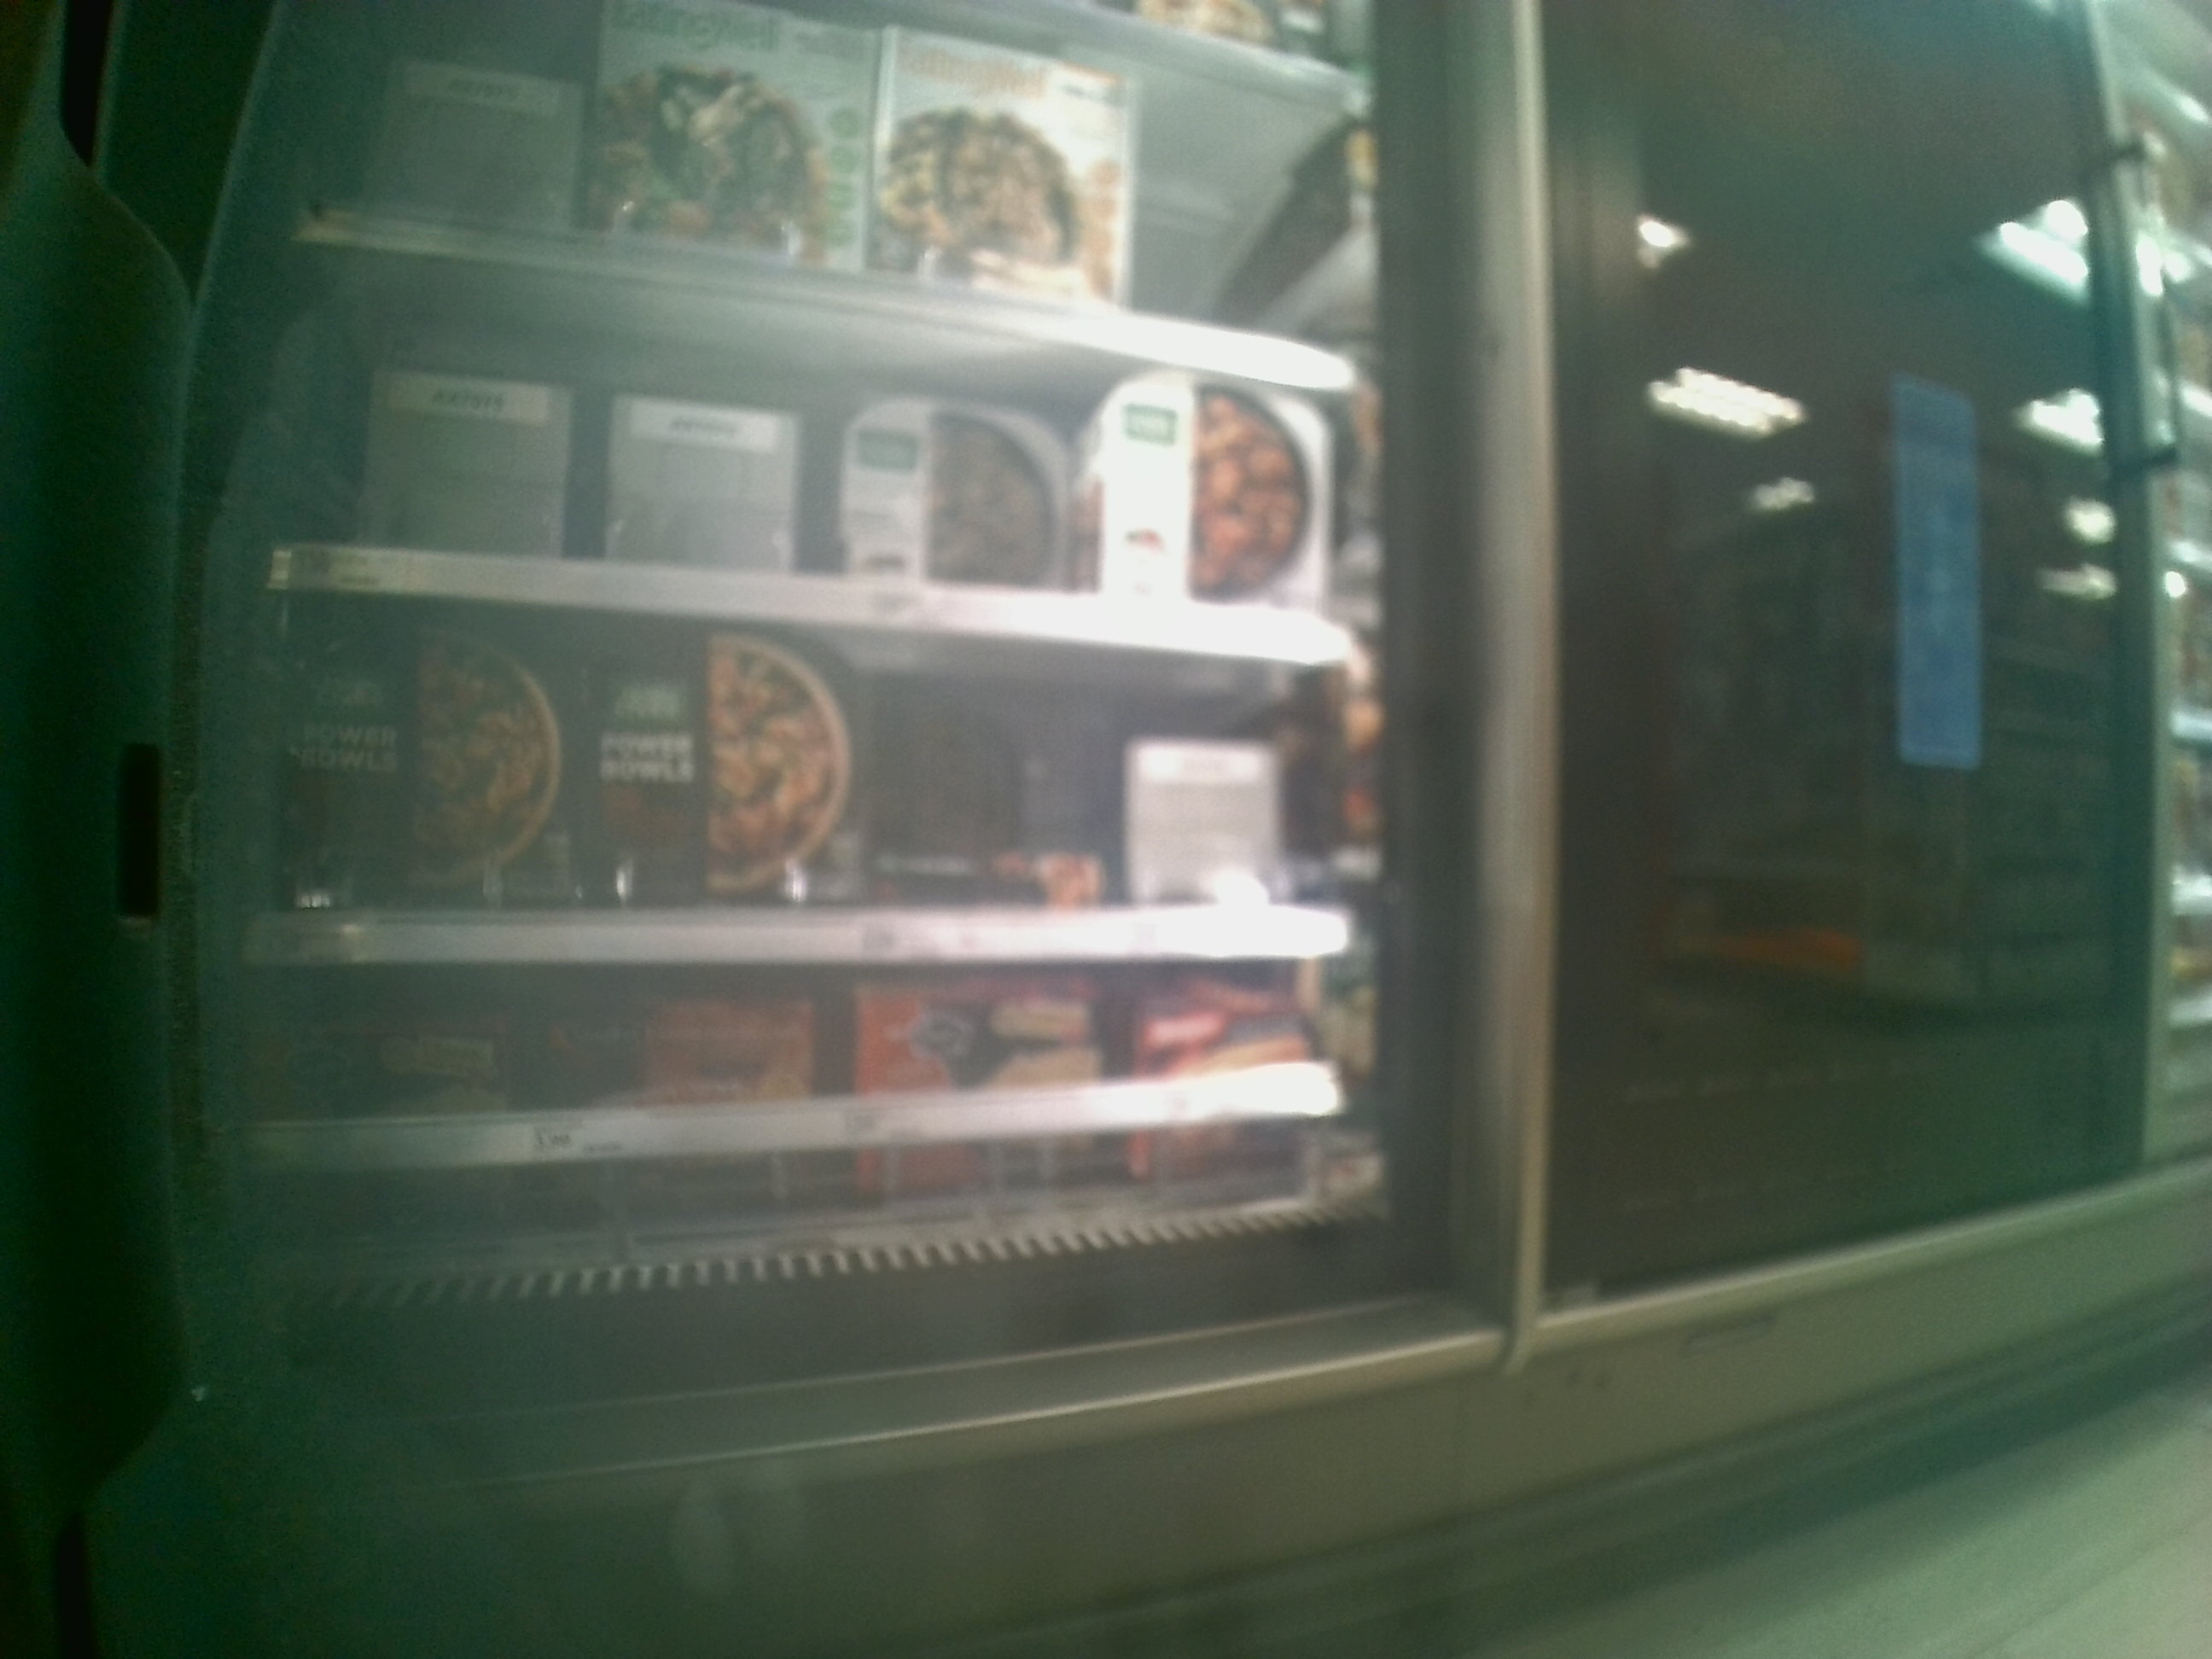shelf: (251, 592, 1388, 967), (254, 964, 1388, 1284)
